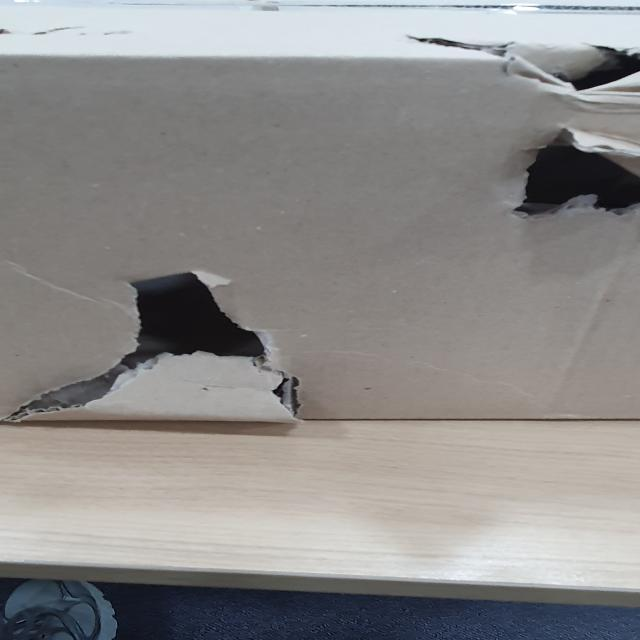hole: (3, 275, 315, 423), (404, 31, 636, 98), (505, 125, 639, 223)
